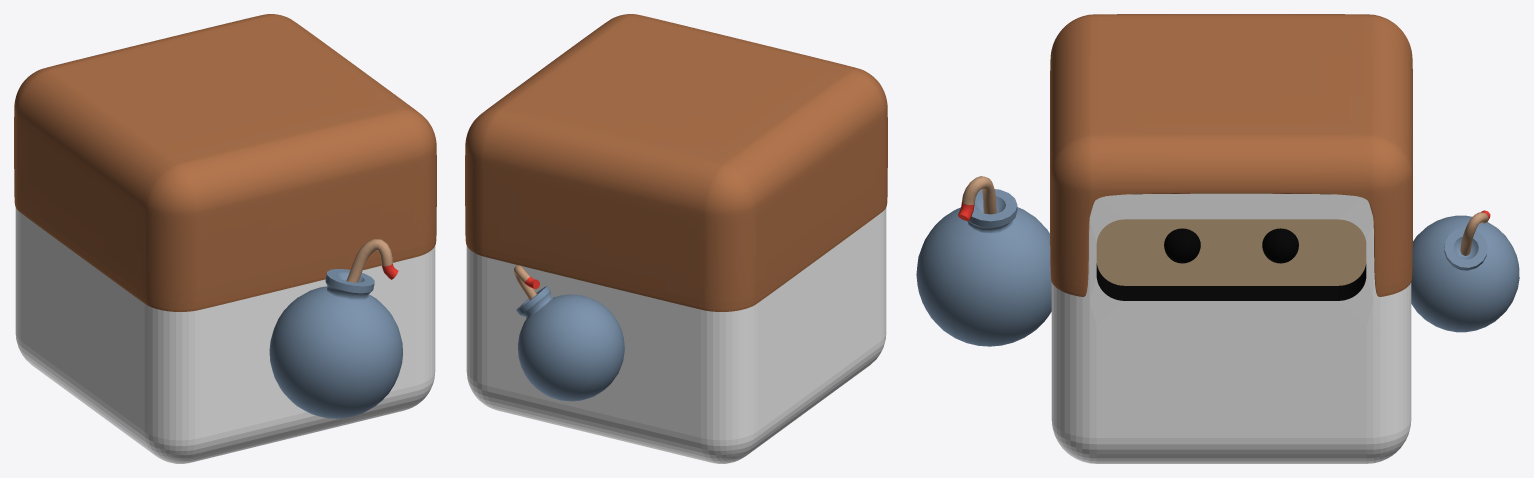
File: wall breaker.fbx
3 renders of one model, left to right at view 1: azimuth 30°, elevation 25°; view 2: azimuth 150°, elevation 25°; view 3: azimuth 270°, elevation 25°, orthographic. The views are drawn at different scales.
Parts seen in each view (by area): view 1: Cube.003; view 2: Cube.003; view 3: Cube.003.
Boxes of the visible parts, left/top/right/bottom form: Cube.003: left=14, top=14, right=436, bottom=463; Cube.003: left=465, top=14, right=887, bottom=463; Cube.003: left=916, top=14, right=1519, bottom=463.
Bounding box in the file's own units: 24.15 × 24.05 × 40.13.
